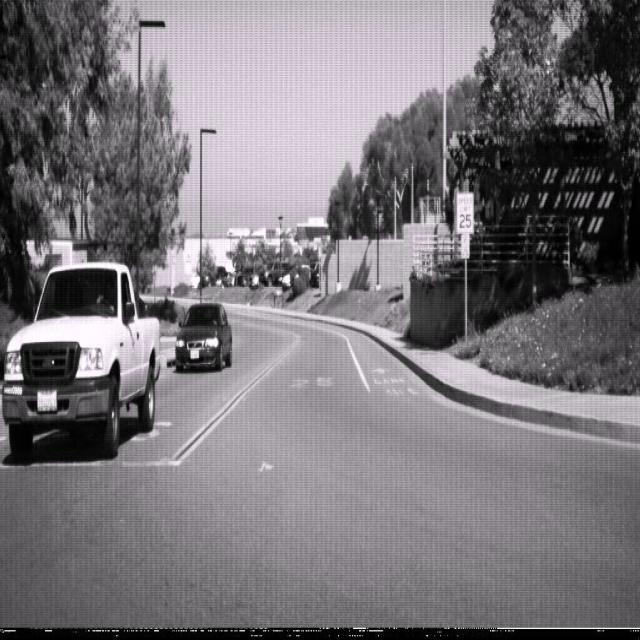speedLimit25: (456, 191, 474, 233)
